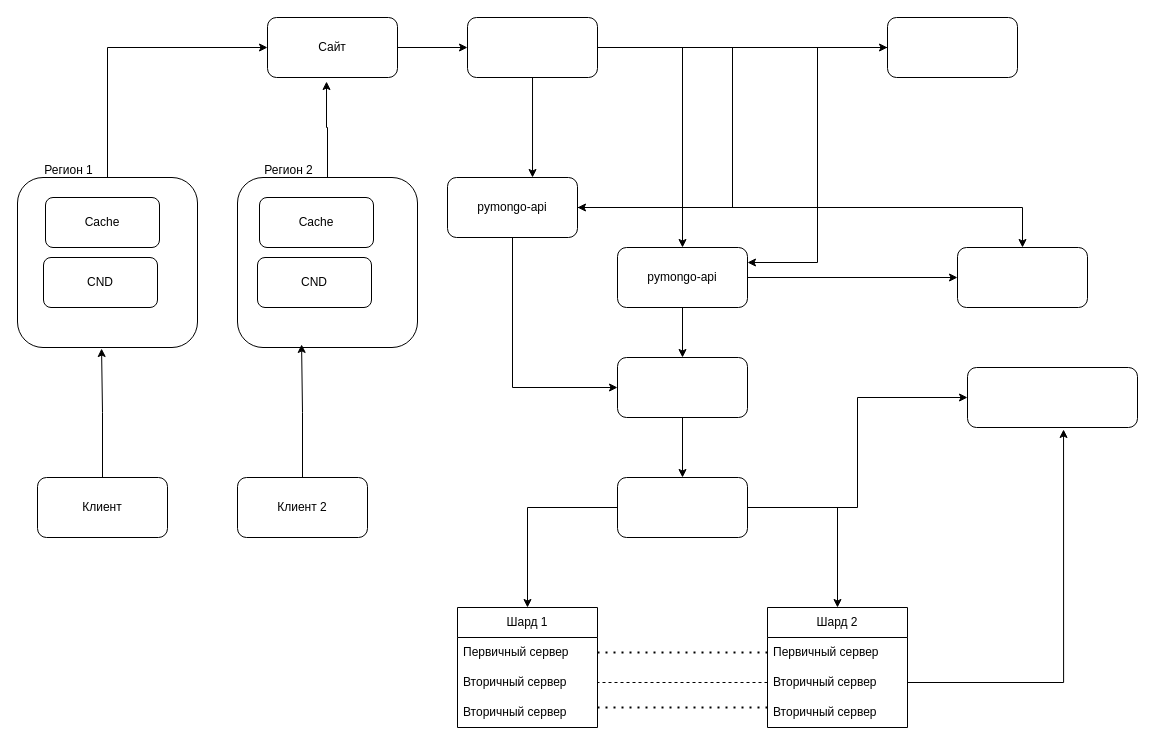
This 1155x745 diagram has some shape labels left out. Here are the shapes that lost their labels. From the top down, the centre of each, then its label:
At (x=532, y=47): "API Gateway".
At (x=952, y=47): "Consil".
At (x=1022, y=277): "Redis".
At (x=682, y=387): "Драйвер".
At (x=1052, y=397): "Конфигурационный сервер".
At (x=682, y=507): "Роутер".
